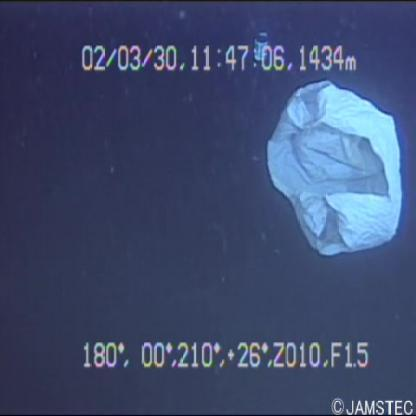Rác: (256, 51, 410, 270)
